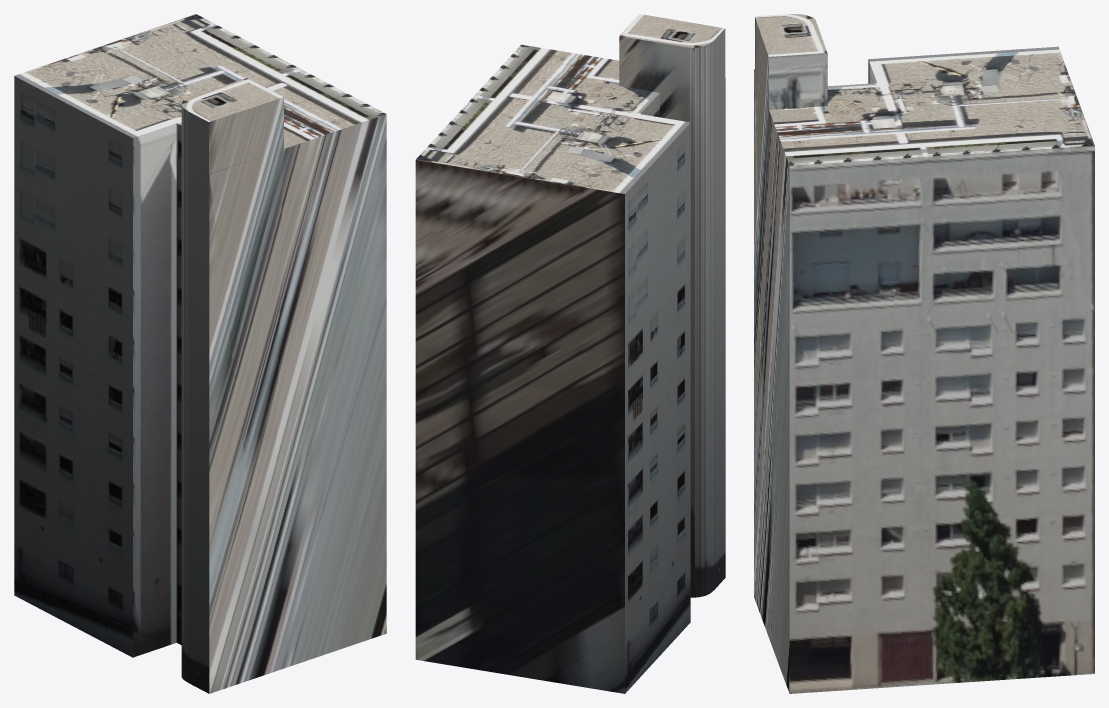
3 renders of one model, left to right at view 1: azimuth 30°, elevation 25°; view 2: azimuth 150°, elevation 25°; view 3: azimuth 270°, elevation 25°, orthographic. The views are drawn at different scales.
Visible parts, largest first — view 1: Z_UP; view 2: Z_UP; view 3: Z_UP.
Part boxes in pixels (x1,y1,x2,y2): Z_UP: (14,14,386,693); Z_UP: (415,14,725,693); Z_UP: (754,14,1094,693).
Size of the model in its own units: 14.09 by 32.02 by 17.04.
2 materials, 1 textured.
